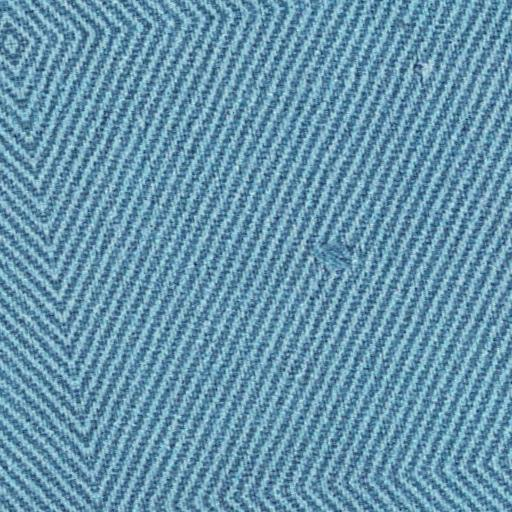knot: (310, 227, 370, 286)
